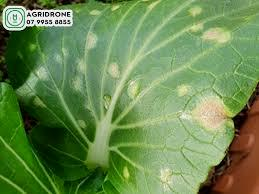Bok-Choy-Diseased: (21, 30, 221, 182)
